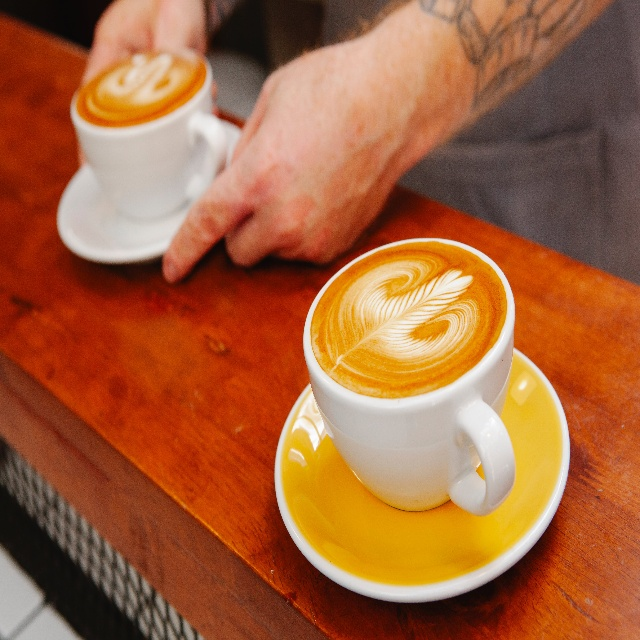Sin_guantes: (162, 40, 406, 286), (81, 0, 213, 86)
